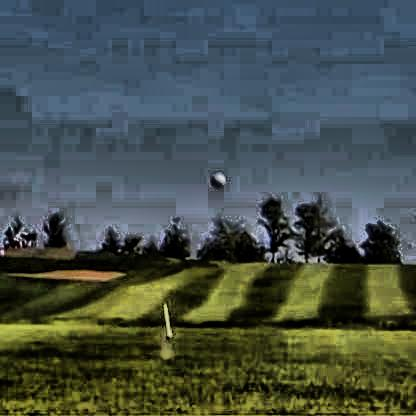golfball: (207, 168, 223, 187)
